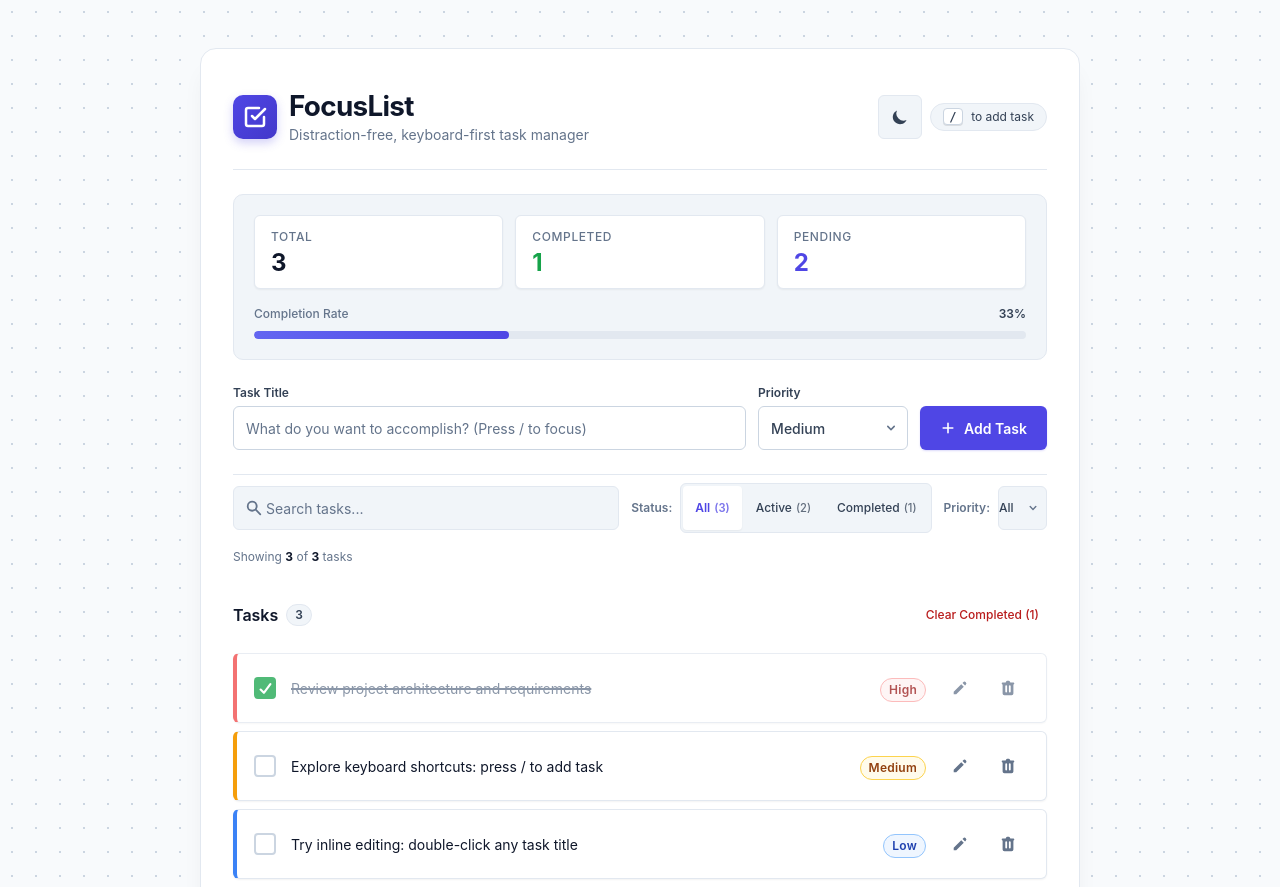
Test case: FocusList Integrated App Flow › adds a new task and updates stats
The image size is (1280, 887).
Type "New Test Task" into the field with test id "task-input". click: coordinates (490, 428)
box: top-left (233, 406), bottom-right (746, 450)
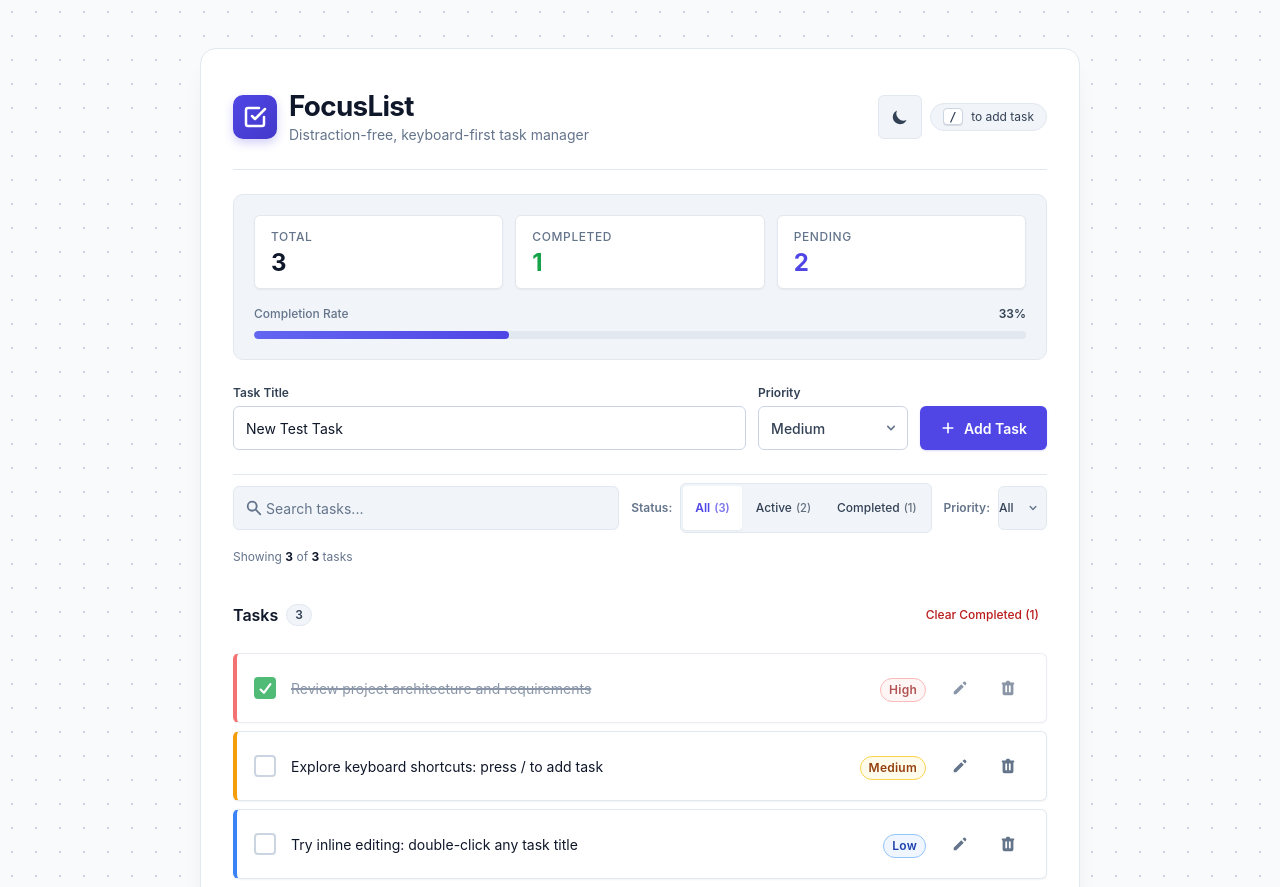
Select "High" in the dropdown with test id "task-priority-select". click: coordinates (833, 428)
box: top-left (758, 406), bottom-right (908, 450)
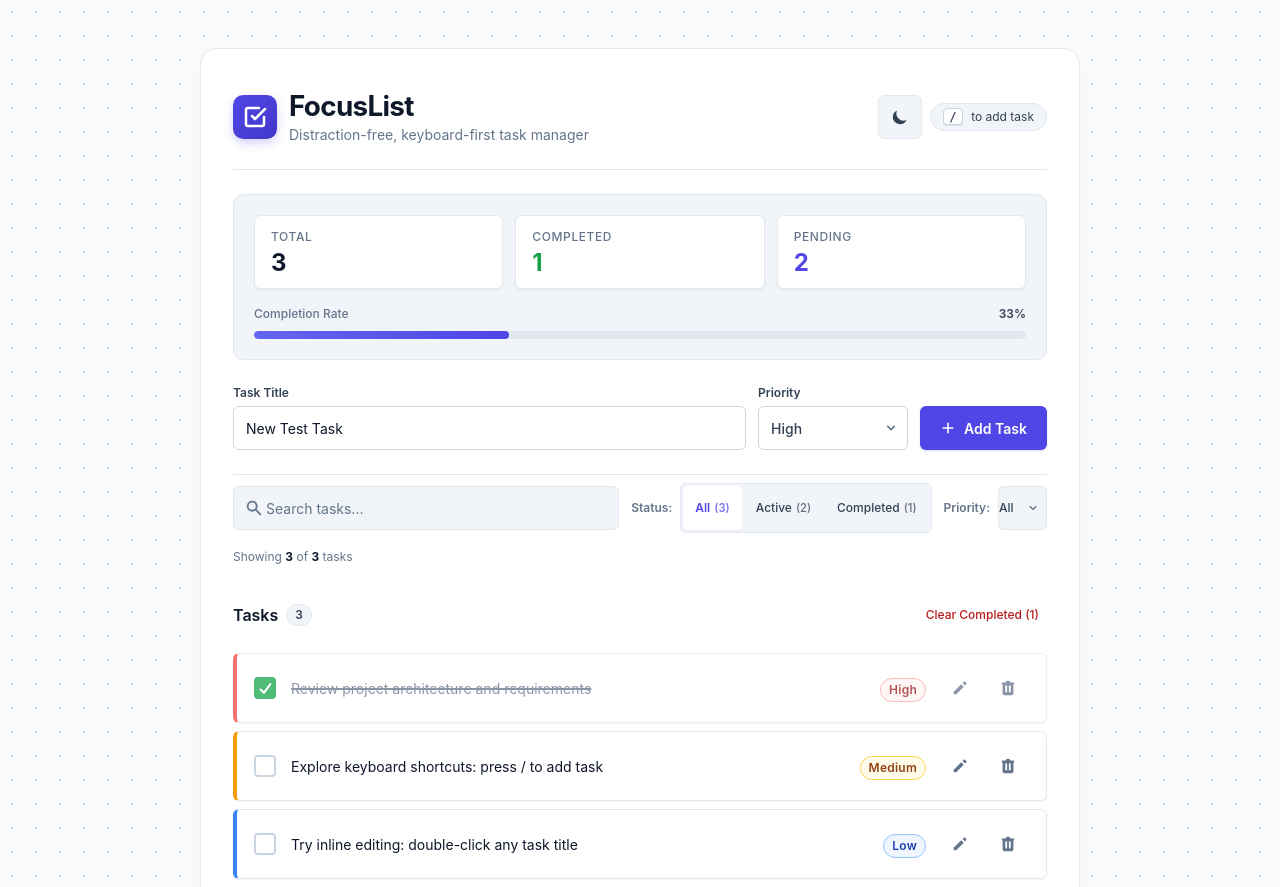
Click the button with test id "add-task-btn". click: coordinates (984, 428)
box: top-left (920, 406), bottom-right (1047, 450)
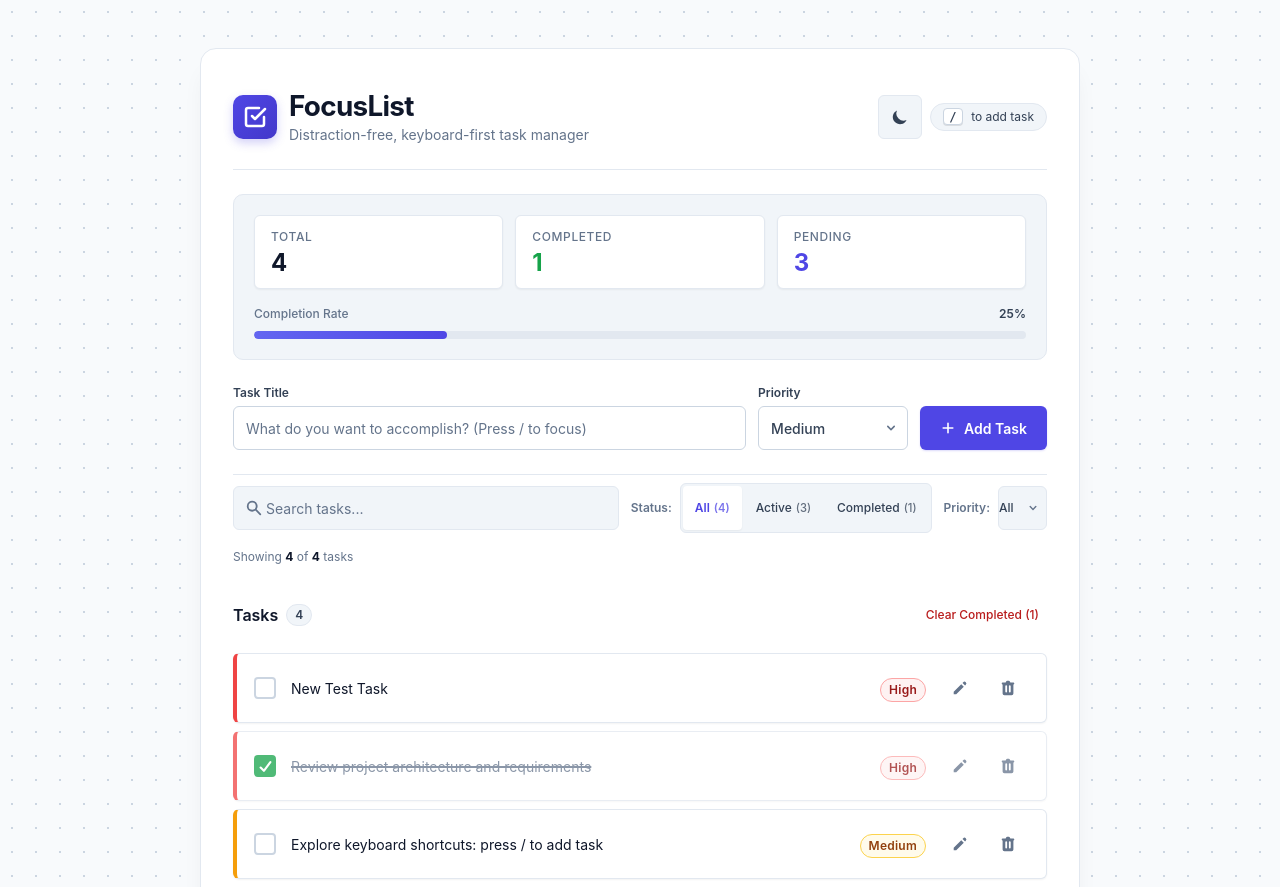
Now the text "New Test Task" is shown, box top-left (291, 680), bottom-right (388, 697)
